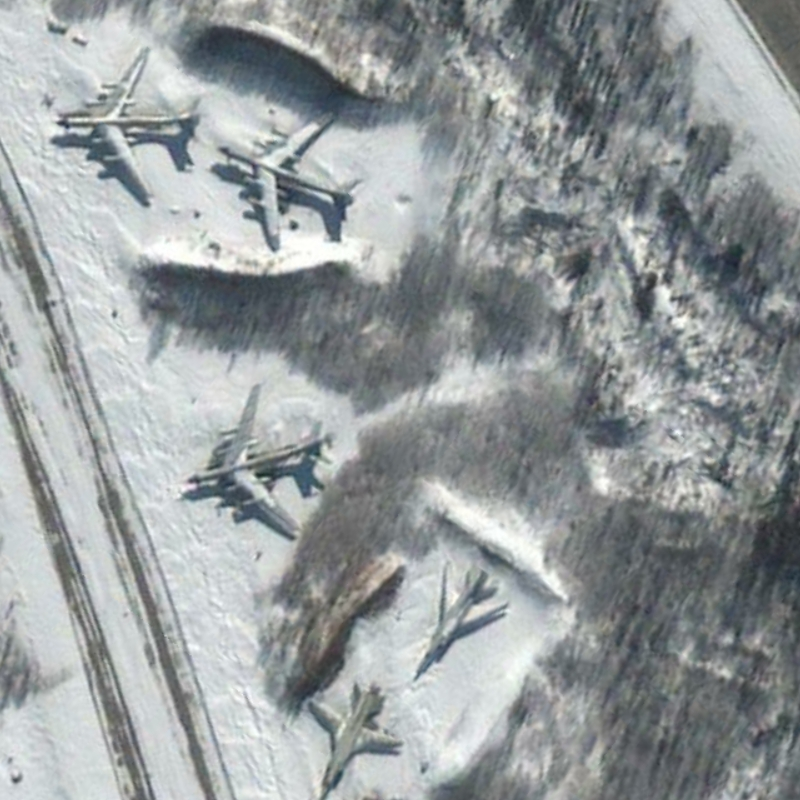A12: (306, 678, 408, 800), (411, 564, 513, 682)
A17: (180, 379, 339, 538), (51, 46, 205, 208), (214, 107, 362, 255)
